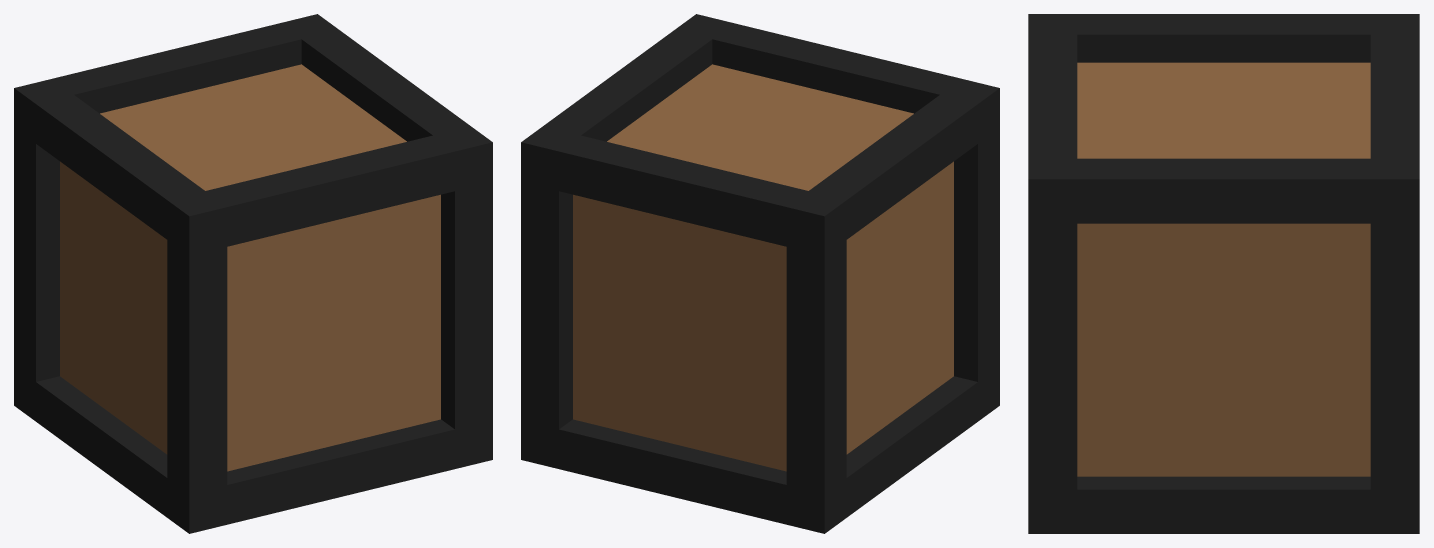
The picture shows the model from 3 angles, left to right: view 1: azimuth 30°, elevation 25°; view 2: azimuth 150°, elevation 25°; view 3: azimuth 270°, elevation 25°; orthographic projection. The views are drawn at different scales.
Parts seen in each view (by area): view 1: Box; view 2: Box; view 3: Box.
Part boxes in pixels (x1,y1,x2,y2): Box: (14,14,492,533); Box: (521,14,999,533); Box: (1028,14,1419,533).
Size of the model in its own units: 1.34 by 1.34 by 1.34.
